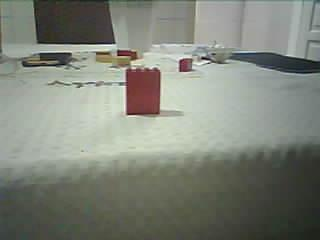lego: (124, 67, 160, 115), (116, 49, 143, 59), (95, 51, 114, 63), (178, 57, 192, 72), (112, 56, 131, 67)
